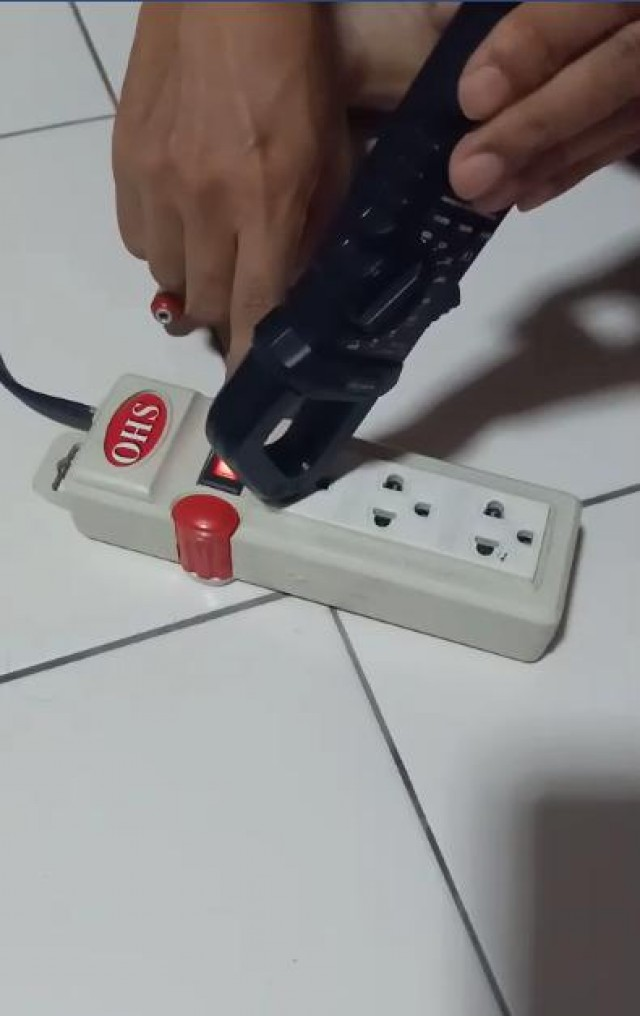Three_eye_plug: (56, 369, 586, 672)
